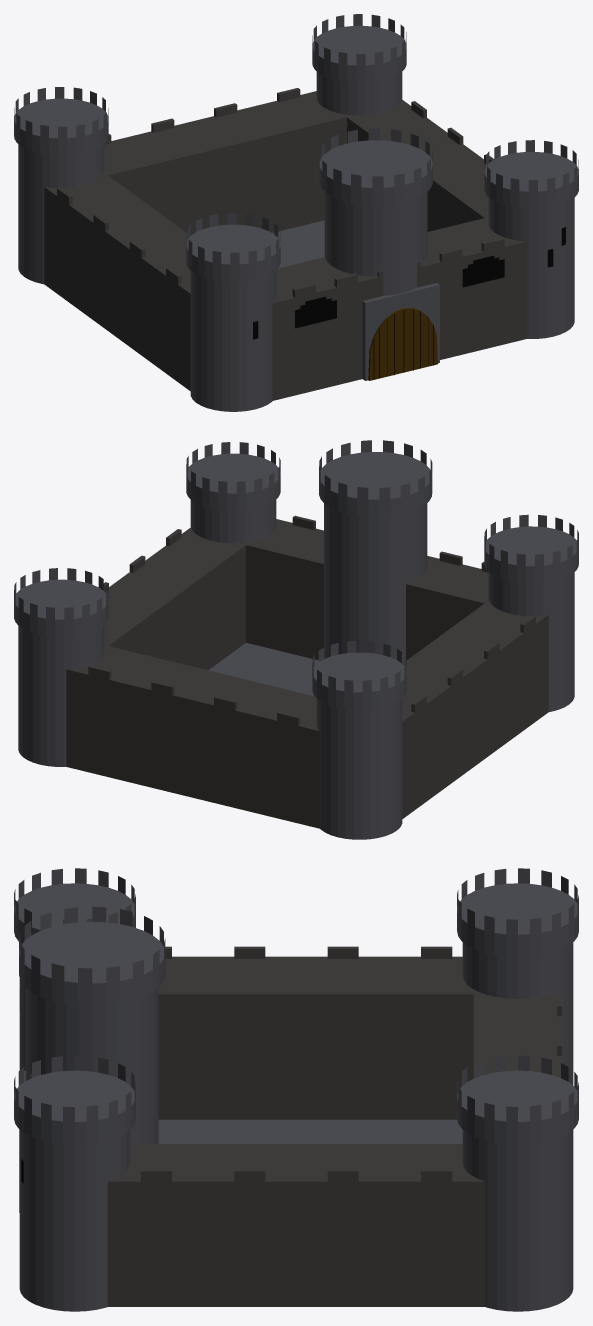
File: Castle.fbx
The picture shows the model from 3 angles, top to bottom: view 1: azimuth 30°, elevation 25°; view 2: azimuth 150°, elevation 25°; view 3: azimuth 270°, elevation 25°; orthographic projection. The views are drawn at different scales.
Parts seen in each view (by area): view 1: Castle; view 2: Castle; view 3: Castle.
Part boxes in pixels (x1,y1,x2,y2): Castle: [14, 14, 578, 411]; Castle: [14, 440, 578, 839]; Castle: [14, 868, 578, 1311].
Bounding box in the file's own units: 1020 × 514 × 1020.
